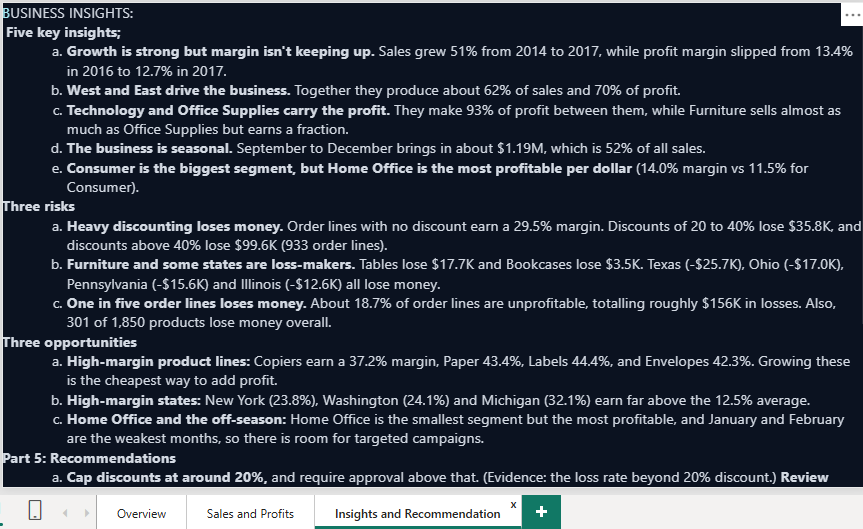

The page's visual inventory and layout, read from the dashboard file:
{"tool":"powerbi","page":{"name":"Insights and Recommendation","canvas":[1920,1080],"ordinal":2},"visuals":[{"type":"textbox","box":[0,0,1920.9,1079.1],"z":0}]}

Visuals, with their boxes on the page's 1920x1080 design canvas (x1, y1, x2, y2). These are canvas units, not pixel positions in the 863x529 screenshot, which may show the page scaled, cropped or inside an application window:
textbox: (0, 0, 1921, 1079)
